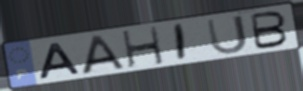A: (81, 34, 127, 76), (38, 41, 84, 81)
B: (249, 10, 290, 51)
H: (120, 25, 166, 70)
I: (173, 22, 187, 63)
U: (204, 13, 250, 56)
